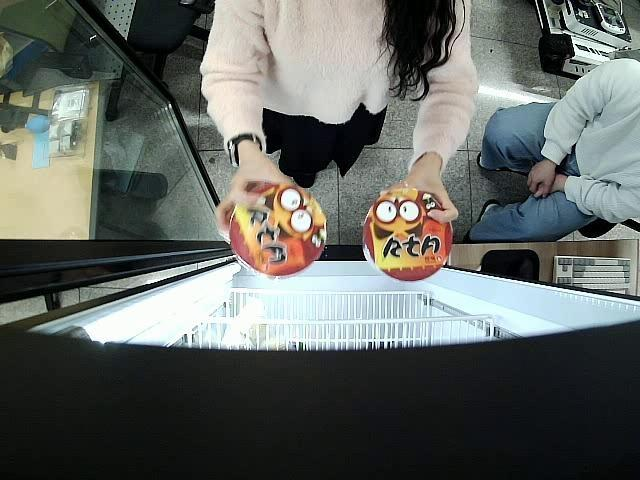05_nuguri_L: (228, 181, 328, 278), (360, 188, 456, 282)
